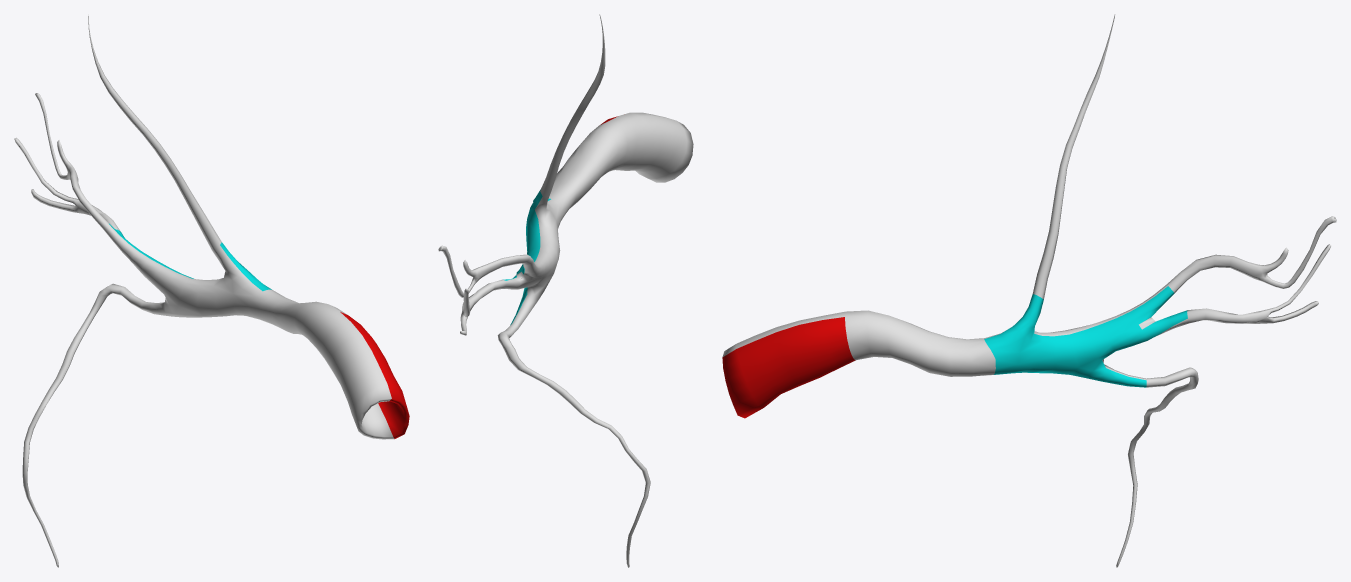
Rendered from Vena.glb.
3 views of the same model, side by side, from view 1: azimuth 30°, elevation 25°; view 2: azimuth 150°, elevation 25°; view 3: azimuth 270°, elevation 25° (orthographic). The views are drawn at different scales.
Parts seen in each view (by area): view 1: VENA.001; view 2: VENA.001; view 3: VENA.001.
Boxes of the visible parts, x1,y1,x2,y2 form: VENA.001: [14, 14, 409, 567]; VENA.001: [438, 14, 693, 567]; VENA.001: [722, 14, 1336, 567].
Size of the model in its own units: 0.7835 by 2.06 by 2.01.
